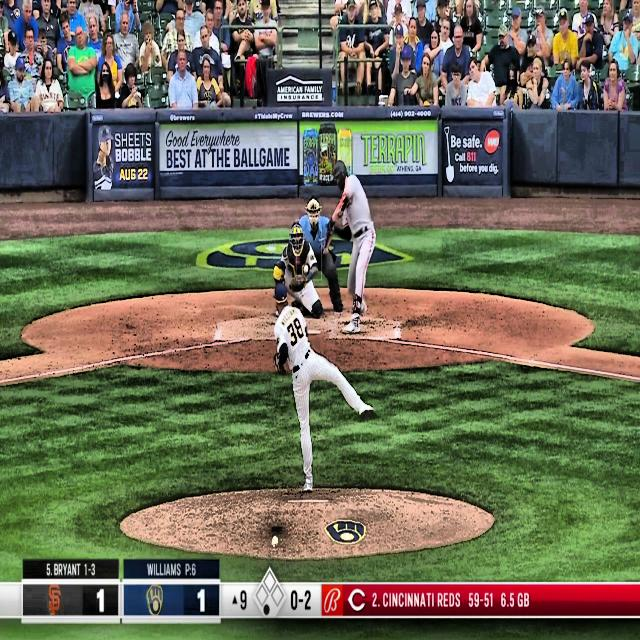baseball: (303, 264, 309, 275)
